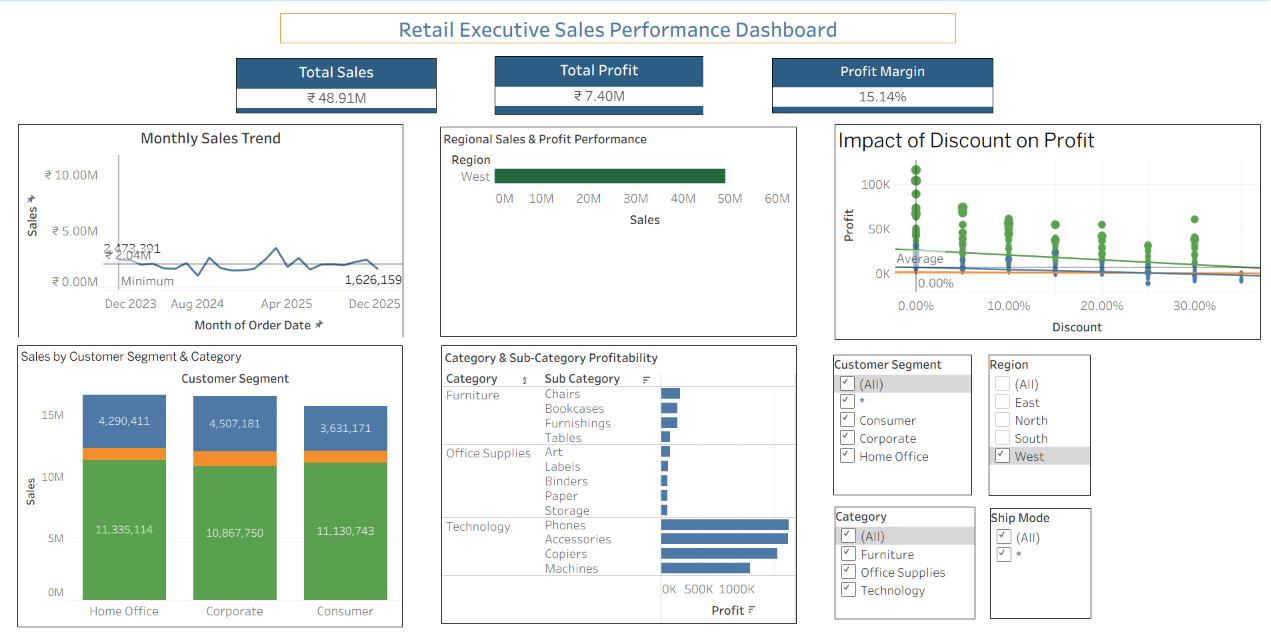

The page's visual inventory and layout, read from the dashboard file:
{"tool":"tableau","page":{"name":"Dashboard 1","canvas":[1000,1000],"units":"permille","ordinal":0},"visuals":[{"type":"text","box":[221.2,18.3,528.2,46.5]},{"type":"worksheet","title":"KPI - Total Profit","mark":"Automatic","box":[388.8,84.4,163.5,90.5]},{"type":"worksheet","title":"KPI - Total Sales","mark":"Text","box":[186.9,86.8,156.8,85.6]},{"type":"worksheet","title":"KPI - Profit Margin","mark":"Automatic","box":[605.8,86.8,173.1,85.6]},{"type":"worksheet","title":"Sales Trend View","mark":"Line","rows":["sales"],"cols":["order_date"],"box":[16.8,188.3,301.1,328.9]},{"type":"worksheet","title":"Discount vs. Profit View","mark":"Circle","rows":["profit"],"cols":["discount"],"box":[654.5,188.3,332.9,332.5]},{"type":"worksheet","title":"Regional Performance View","mark":"Automatic","rows":["region"],"cols":["sales"],"box":[346.2,193.2,278.9,322.7]},{"type":"worksheet","title":"Customer Segment View","mark":"Automatic","rows":["sales"],"cols":["customer_segment"],"box":[16.2,529.3,301.1,434]},{"type":"worksheet","title":"Category Profitability View","mark":"Automatic","rows":["category","sub_category"],"cols":["profit"],"box":[347.4,529.3,277.6,429.1]},{"type":"filter","title":"Customer Segment View","param":"[federated.17eydmc0iiu26u0zjniod1c91s0a].[attr:customer_segment:nk]","box":[653.9,544,108.2,216.4]},{"type":"filter","title":"Sales Trend View","param":"[federated.17eydmc0iiu26u0zjniod1c91s0a].[none:region:nk]","box":[775.2,544,79.9,217.6]},{"type":"filter","title":"Category Profitability View","param":"[federated.17eydmc0iiu26u0zjniod1c91s0a].[none:category:nk]","box":[654.5,777.5,110,173.6]},{"type":"filter","title":"Category Profitability View","param":"[federated.17eydmc0iiu26u0zjniod1c91s0a].[attr:ship_mode:nk]","box":[775.8,780,79.3,169.9]}]}

Visuals, with their boxes on the dashboard's canvas, which has no fixed pixel size, in thousandths of its width and height (x1, y1, x2, y2). These are canvas units, not pixel positions in the 1271x642 screenshot, which may show the page scaled, cropped or inside an application window:
text: 221, 18, 749, 65
"KPI - Total Profit" worksheet: 389, 84, 552, 175
"KPI - Total Sales" worksheet (Text marks): 187, 87, 344, 172
"KPI - Profit Margin" worksheet: 606, 87, 779, 172
"Sales Trend View" worksheet (Line marks): 17, 188, 318, 517
"Discount vs. Profit View" worksheet (Circle marks): 654, 188, 987, 521
"Regional Performance View" worksheet: 346, 193, 625, 516
"Customer Segment View" worksheet: 16, 529, 317, 963
"Category Profitability View" worksheet: 347, 529, 625, 958
"Customer Segment View" filter: 654, 544, 762, 760
"Sales Trend View" filter: 775, 544, 855, 762
"Category Profitability View" filter: 654, 778, 764, 951
"Category Profitability View" filter: 776, 780, 855, 950
